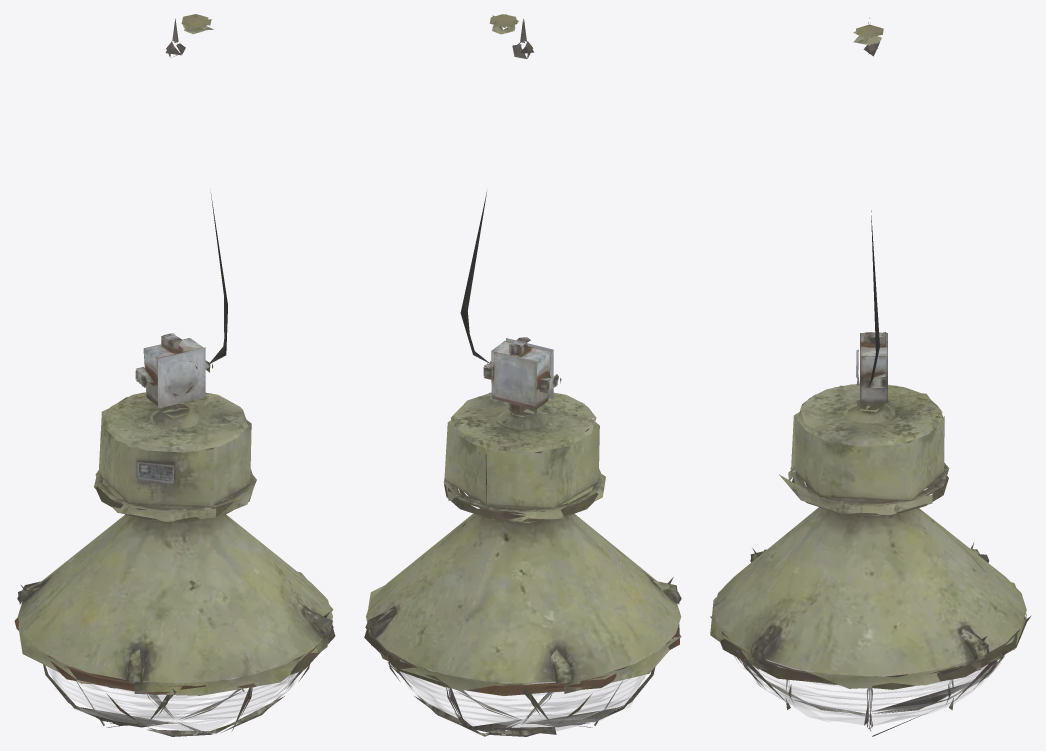
File: pendant.glb
3 views of the same model, side by side, from view 1: azimuth 30°, elevation 25°; view 2: azimuth 150°, elevation 25°; view 3: azimuth 270°, elevation 25° (orthographic).
Parts seen in each view (by area): view 1: hanging_industrial_lamp; view 2: hanging_industrial_lamp; view 3: hanging_industrial_lamp.
Part boxes in pixels (x1,y1,x2,y2): hanging_industrial_lamp: (14,14,335,736); hanging_industrial_lamp: (364,14,681,736); hanging_industrial_lamp: (710,17,1031,736).
Bounding box in the file's own units: 0.5606 × 1.36 × 0.5633.
2 materials, 1 textured.
